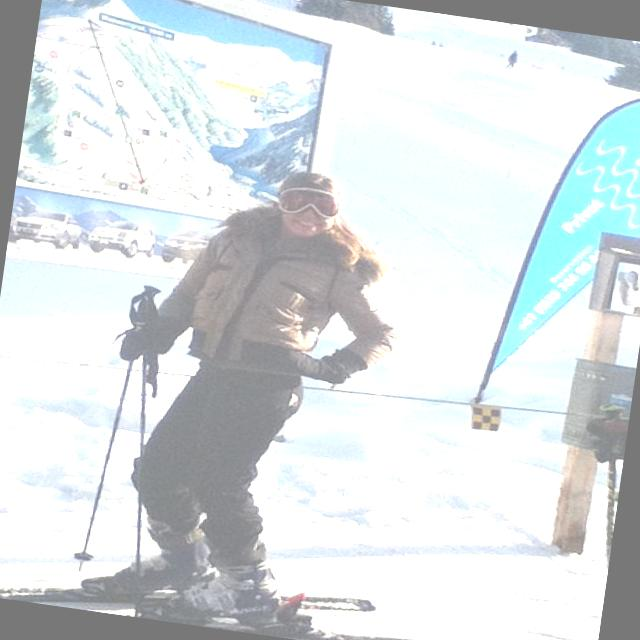Vehicle: (8, 204, 86, 252), (85, 214, 158, 260), (152, 234, 208, 269)
